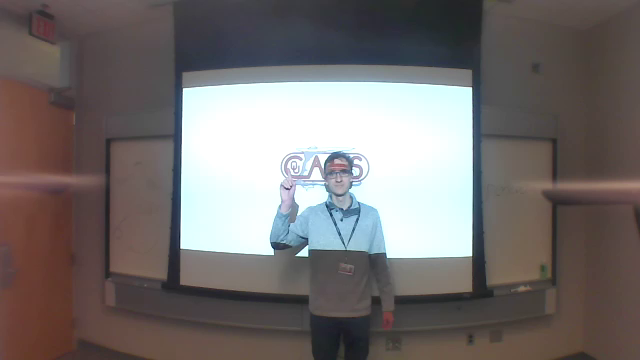up: (278, 166, 298, 197)
